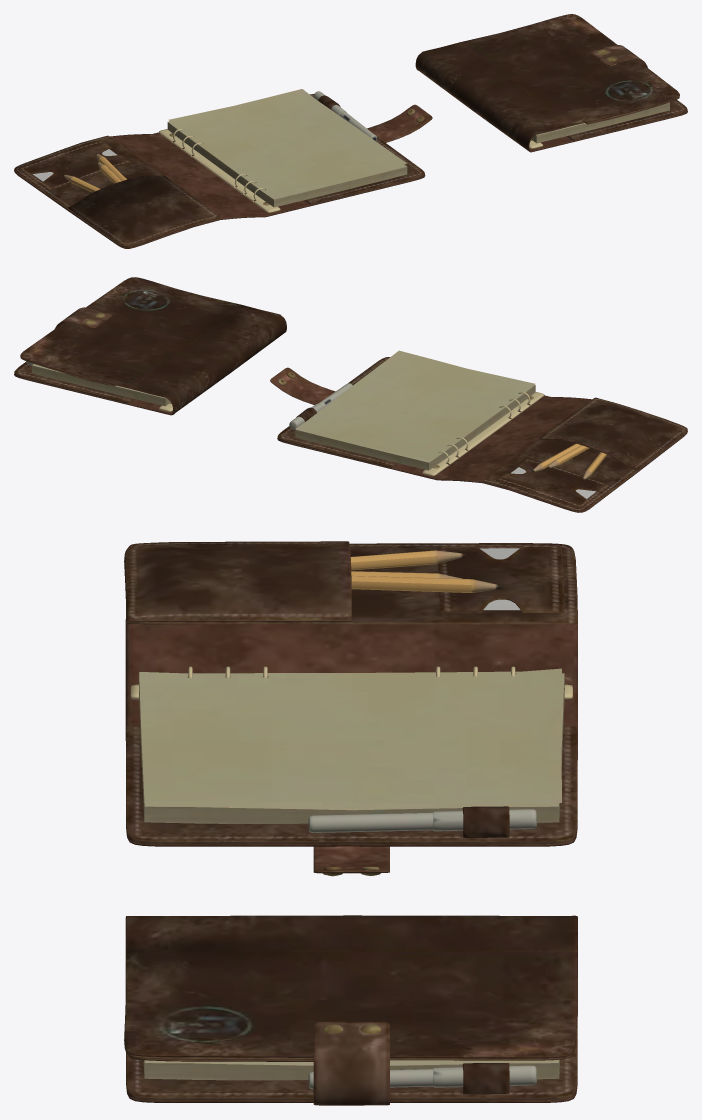
Rendered from note.glb.
3 renders of one model, top to bottom at view 1: azimuth 30°, elevation 25°; view 2: azimuth 150°, elevation 25°; view 3: azimuth 270°, elevation 25°, orthographic. The views are drawn at different scales.
Visible parts, largest first — view 1: binder_notebook; view 2: binder_notebook; view 3: binder_notebook.
Part boxes in pixels (x1,y1,x2,y2): binder_notebook: (14, 14, 687, 248); binder_notebook: (14, 277, 687, 512); binder_notebook: (124, 541, 577, 1105).
Size of the model in its own units: 0.584 by 0.0253 by 0.2.
Materials: 1 (1 with a texture image).
